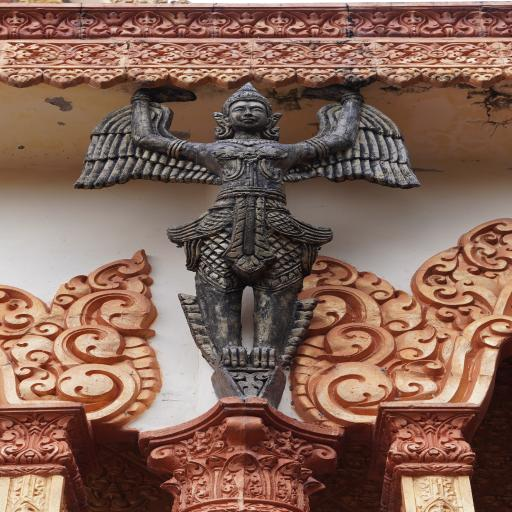la: (303, 358, 386, 412), (392, 415, 476, 468), (66, 285, 154, 335), (60, 364, 137, 419), (410, 247, 480, 305), (0, 414, 73, 468), (309, 323, 392, 365), (457, 210, 512, 273), (90, 244, 158, 294), (56, 320, 128, 367), (0, 284, 62, 338), (297, 287, 381, 325), (66, 40, 188, 63), (384, 356, 443, 397), (376, 292, 432, 333), (162, 5, 234, 36), (312, 44, 436, 62), (194, 42, 316, 60), (42, 7, 109, 39), (424, 302, 485, 337), (0, 335, 62, 369), (100, 6, 170, 36), (233, 7, 303, 37), (425, 9, 503, 35), (302, 6, 363, 38), (9, 364, 59, 402), (301, 254, 354, 289), (362, 8, 424, 37), (350, 269, 396, 304), (6, 42, 66, 64), (435, 44, 509, 61), (0, 10, 41, 38), (53, 278, 94, 302), (457, 66, 501, 86), (333, 66, 375, 86), (251, 66, 297, 84), (0, 67, 43, 86), (417, 67, 461, 85), (375, 68, 423, 84), (79, 70, 126, 85), (127, 68, 169, 84), (297, 67, 334, 85), (205, 67, 251, 81), (169, 66, 206, 82), (46, 68, 80, 84)
than: (69, 82, 428, 406)
